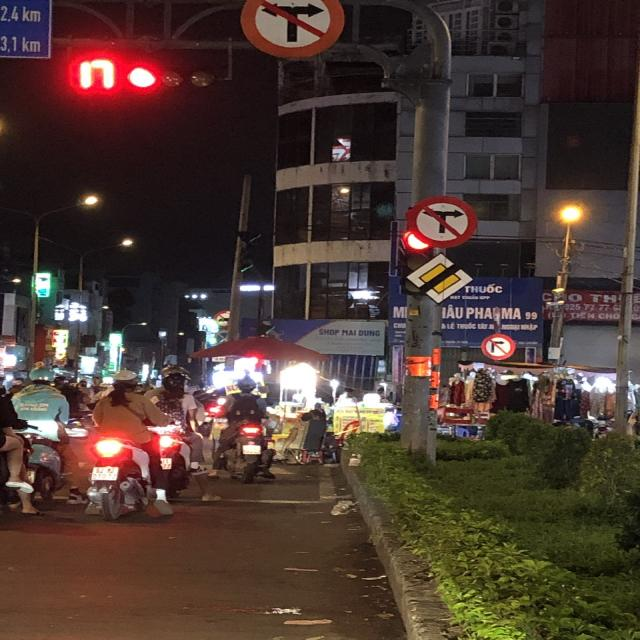Bien bao cam re phai: (479, 329, 518, 364)
